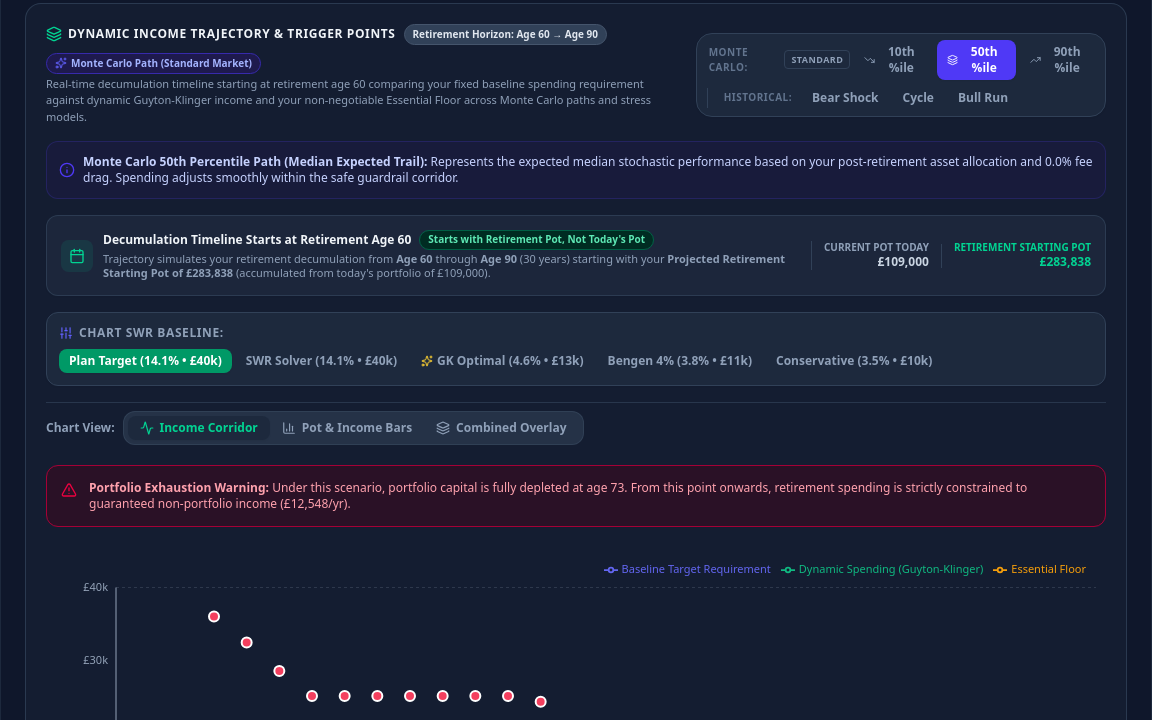
Test case: DynamicSpendingCard - Guyton-Klinger Spending Rules & Monte Carlo Paths › supports selecting starting withdrawal rate calculator and benchmarks to drive the chart trajectory
(page scrolled)
Expected: the text "Chart SWR Baseline:" is shown, [79,325,224,341]
Expected: the button "Plan Target (14.1% • £40k)" is shown, [59,349,232,373]
# Switch to GK Optimal benchmark
What coordinates should you click on to do the following:
click the button "GK Optimal (4.6% • £13k)"
I would click on:
 (502, 361)
Its box is [411,349,594,373].
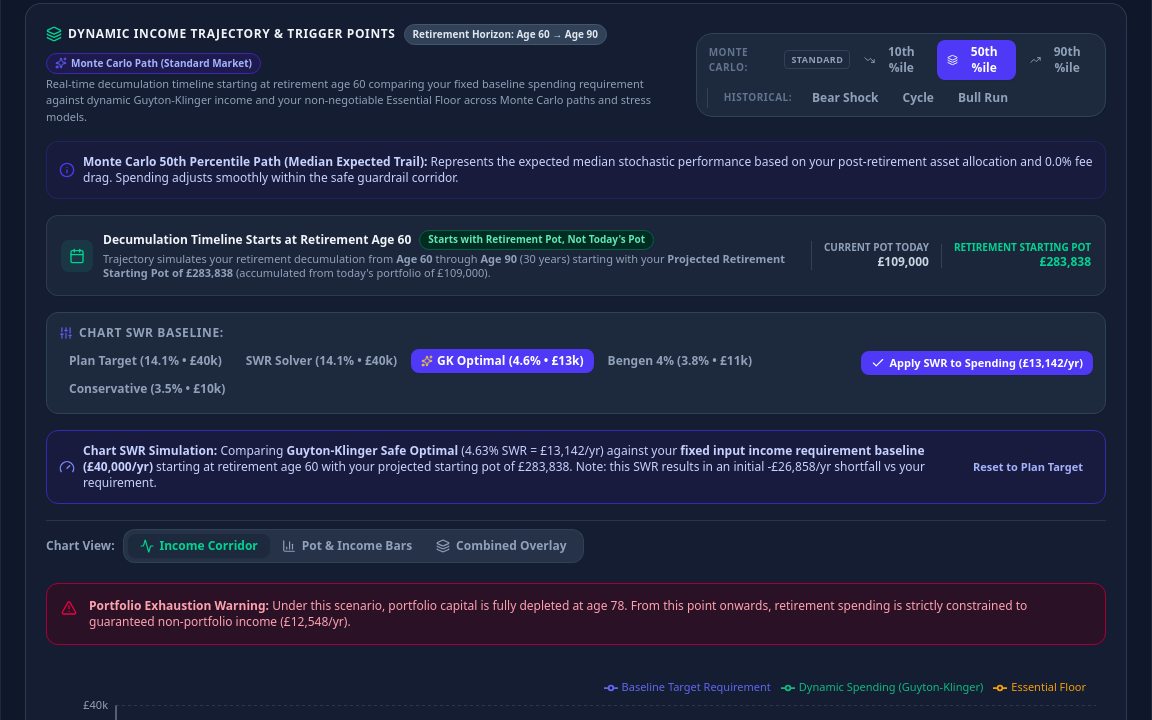
Now the text "Chart SWR Simulation:" is shown, box [83,442,217,459]
# Switch to Bengen 4% benchmark
What coordinates should you click on to do the following:
click the button "Bengen 4% (3.8% • £11k)"
I would click on:
 (680, 361)
Its box is [598,349,762,373].
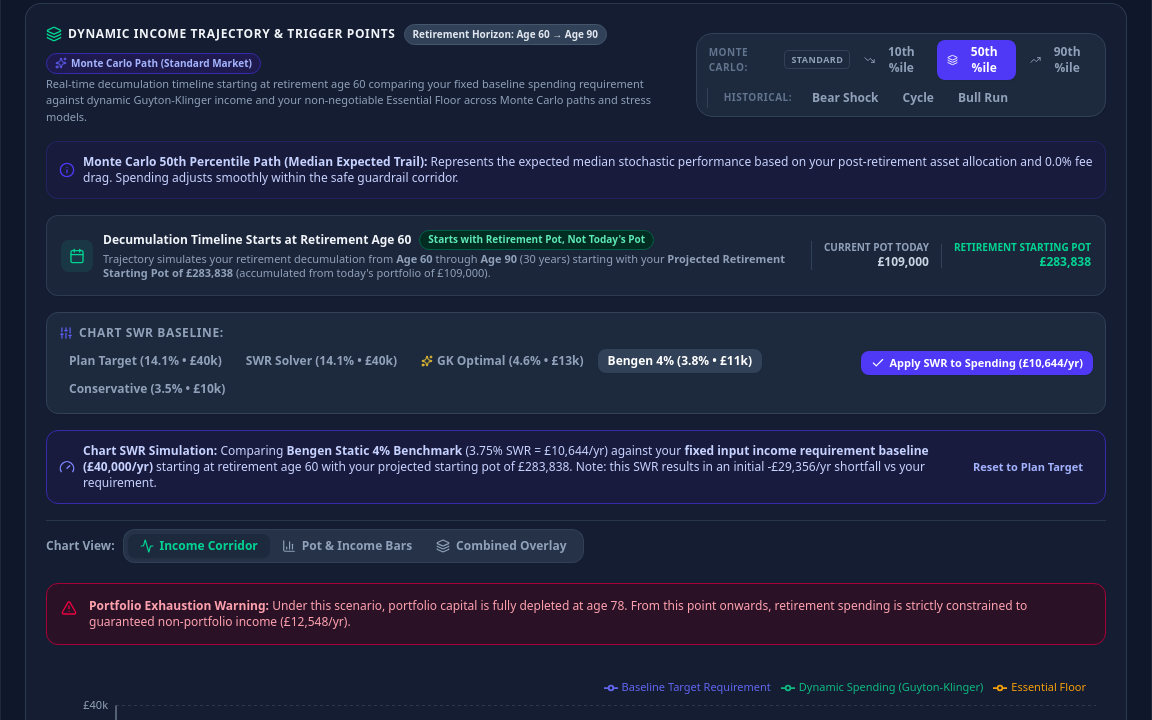
# Switch to SWR Solver selection
What coordinates should you click on to do the following:
click the button "SWR Solver (14.1% • £40k)"
I would click on:
 (321, 361)
Its box is [236,349,407,373].
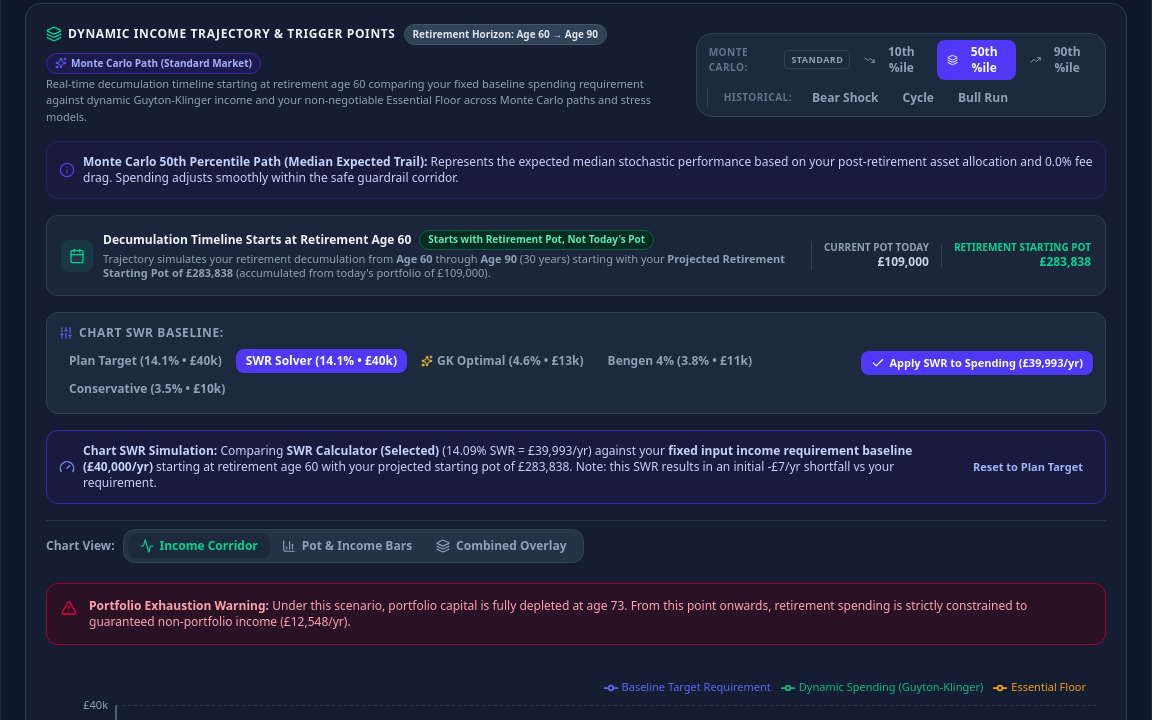
# Reset back to Plan Target
What coordinates should you click on to do the following:
click the button "Reset to Plan Target"
I would click on:
 (1028, 467)
Its box is [963,456,1093,478].
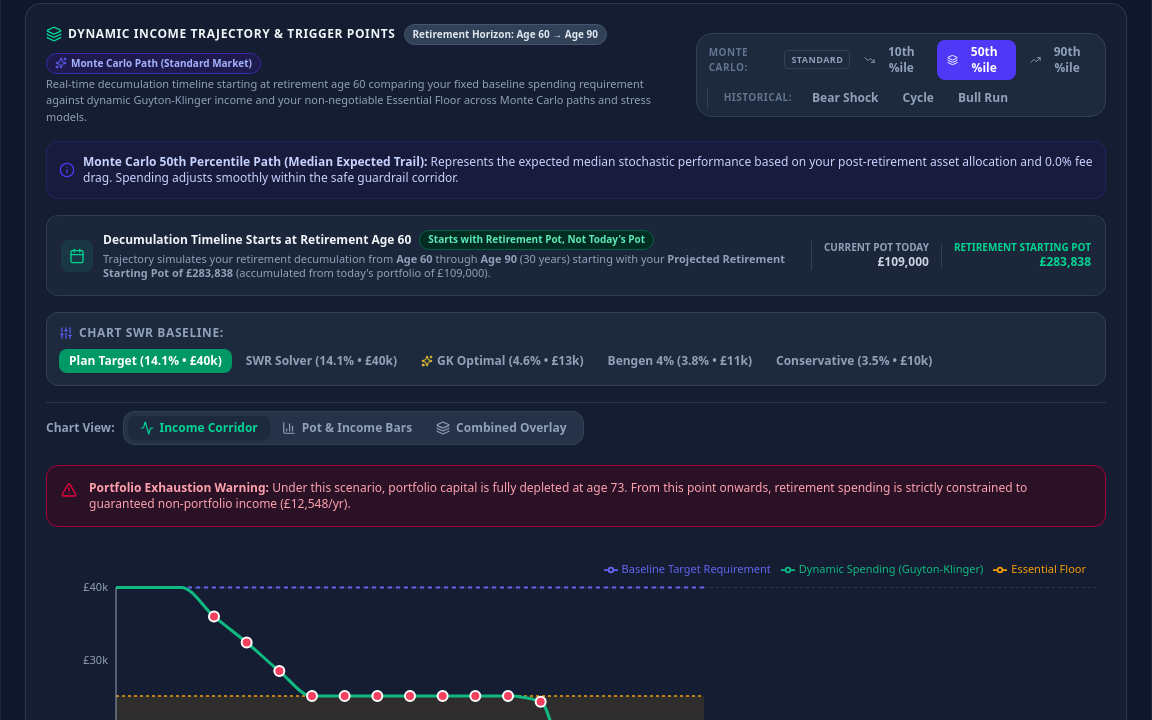
Now the text "Chart SWR Simulation:" is gone
